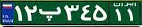character: (38, 3, 63, 23), (62, 2, 80, 21), (92, 2, 108, 22), (23, 3, 38, 23), (80, 2, 93, 23), (13, 3, 23, 23), (111, 7, 124, 22), (125, 7, 136, 23)
